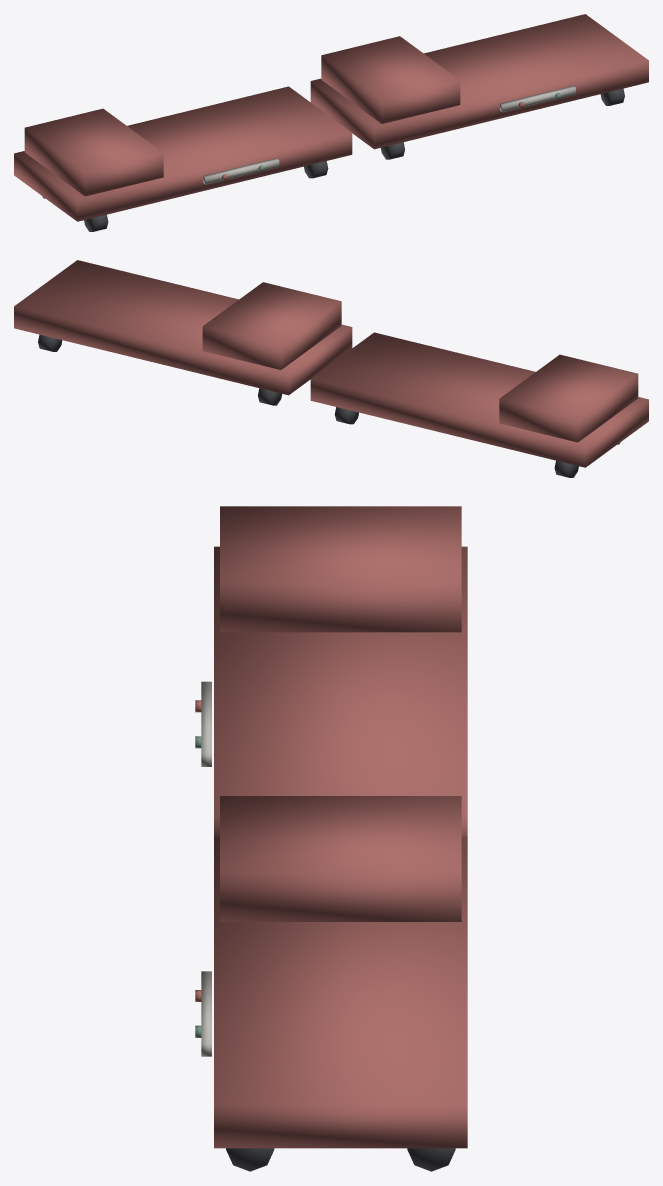
Rendered from mechanic_creeper__cluster.glb.
3 views of the same model, one above another, from view 1: azimuth 30°, elevation 25°; view 2: azimuth 150°, elevation 25°; view 3: azimuth 270°, elevation 25° (orthographic). The views are drawn at different scales.
Visible parts, largest first — view 1: world; view 2: world; view 3: world.
Boxes of the visible parts, left/top/right/bottom form: world: left=14, top=14, right=648, bottom=231; world: left=14, top=260, right=648, bottom=477; world: left=195, top=506, right=467, bottom=1171.
Size of the model in its own units: 2.18 by 0.25 by 0.451.
